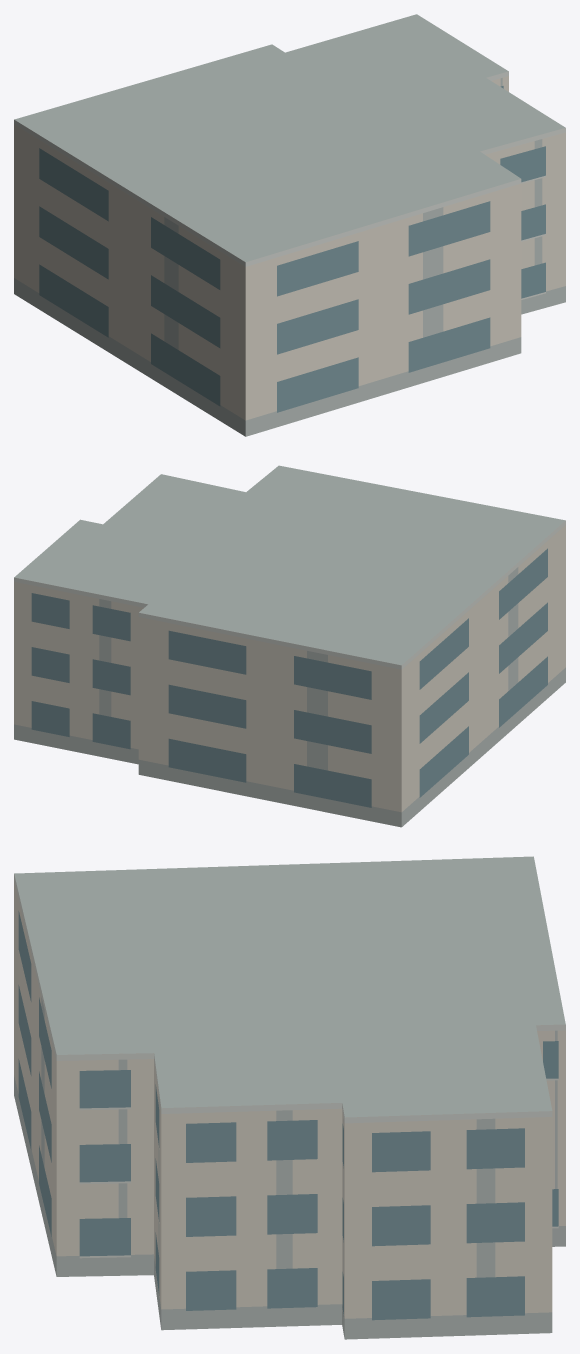
Rendered from survey-upis-32914891.glb.
3 views of the same model, one above another, from view 1: azimuth 30°, elevation 25°; view 2: azimuth 150°, elevation 25°; view 3: azimuth 270°, elevation 25° (orthographic). The views are drawn at different scales.
Visible parts, largest first — view 1: survey-upis-32914891.tmp; view 2: survey-upis-32914891.tmp; view 3: survey-upis-32914891.tmp.
Part boxes in pixels (left/top/right/bottom): survey-upis-32914891.tmp: left=14, top=14, right=565, bottom=436; survey-upis-32914891.tmp: left=14, top=465, right=565, bottom=827; survey-upis-32914891.tmp: left=14, top=856, right=565, bottom=1339.
Size of the model in its own units: 23.09 by 9.15 by 20.62.
